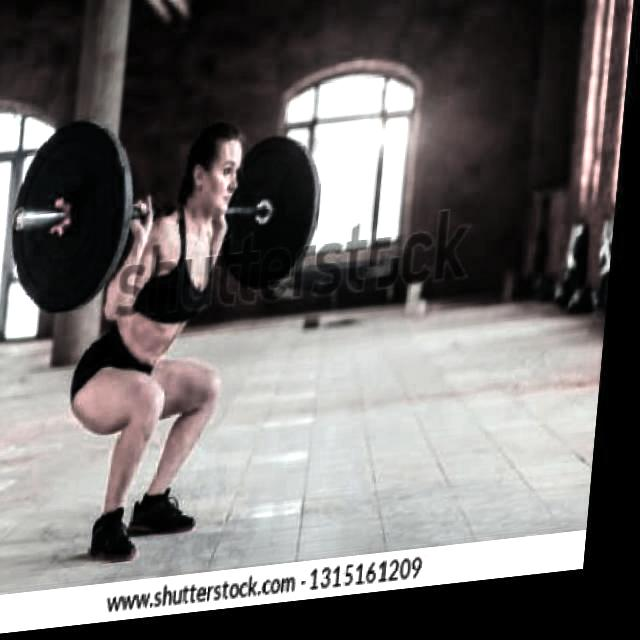barbell: (8, 116, 140, 322)
